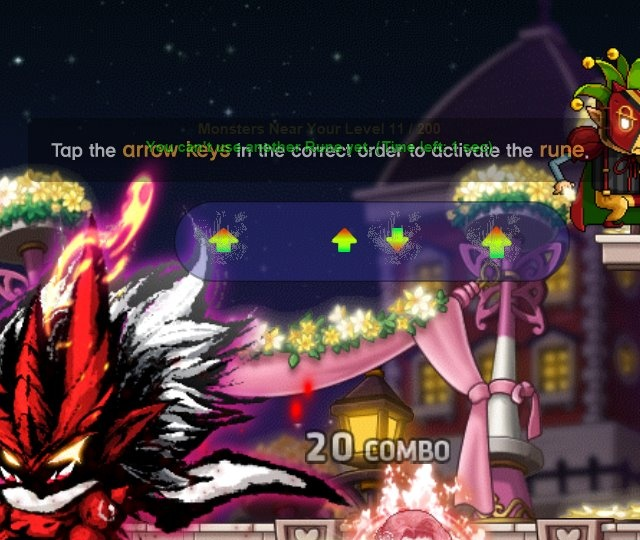down: (377, 222, 415, 259)
up: (477, 219, 521, 269), (203, 222, 249, 267), (324, 220, 366, 266)
